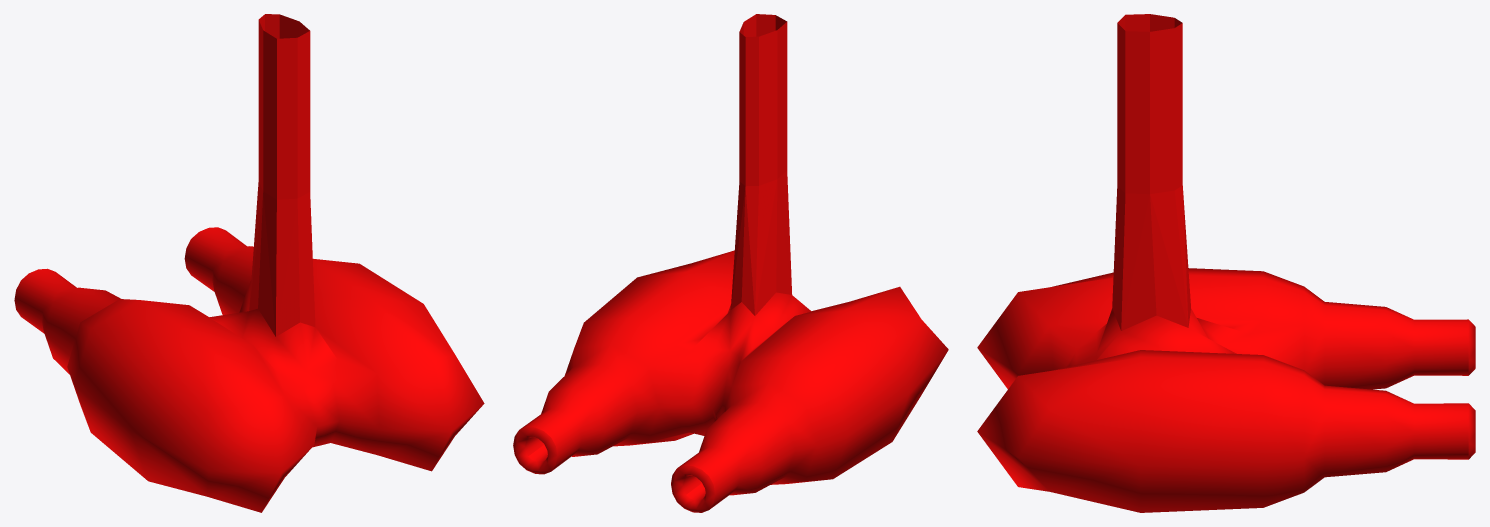
The model's file is EnemyCannon.FBX.
3 views of the same model, side by side, from view 1: azimuth 30°, elevation 25°; view 2: azimuth 150°, elevation 25°; view 3: azimuth 270°, elevation 25° (orthographic). The views are drawn at different scales.
Visible parts, largest first — view 1: Enemy Cannon01; view 2: Enemy Cannon01; view 3: Enemy Cannon01.
Part boxes in pixels (x1=…): Enemy Cannon01: x1=14, y1=14, x2=484, y2=512; Enemy Cannon01: x1=513, y1=14, x2=948, y2=512; Enemy Cannon01: x1=977, y1=14, x2=1475, y2=512.
Size of the model in its own units: 50.49 by 67.86 by 69.58.
